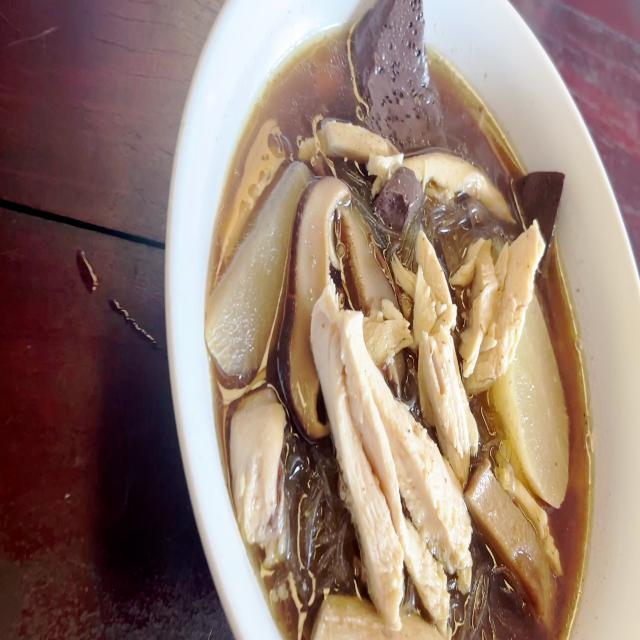boiled_chicken_blood_jelly: (340, 0, 434, 140), (512, 161, 561, 232), (376, 169, 424, 235)
chicken_shredded: (319, 294, 458, 612), (414, 229, 474, 463), (471, 230, 542, 376), (226, 397, 285, 543), (411, 148, 508, 221), (321, 593, 434, 640), (318, 115, 399, 163)
daikon_radish: (214, 142, 288, 388), (510, 317, 562, 496)
noodle: (212, 21, 591, 640)
